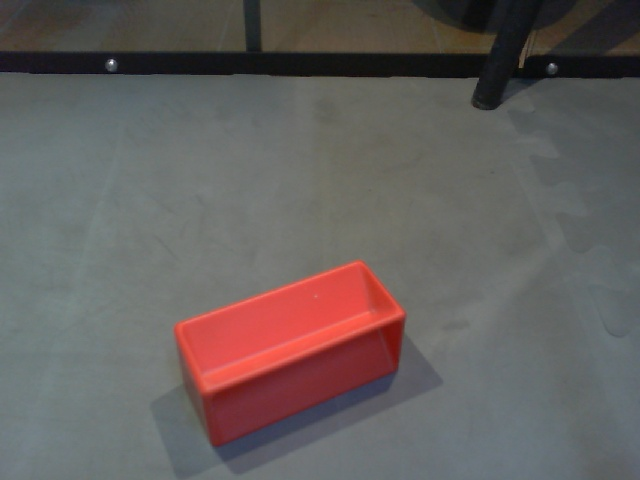RedSample: (172, 257, 408, 450)
